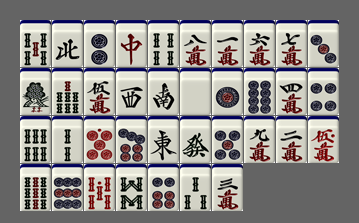0m: (308, 116, 339, 163)
0p: (84, 116, 115, 163)
0s: (84, 164, 115, 211)
1m: (212, 20, 243, 67)
1p: (212, 68, 243, 115)
1s: (20, 68, 51, 115)
1z: (148, 116, 179, 163)
2m: (276, 116, 307, 163)
2p: (84, 20, 115, 67)
2s: (52, 116, 83, 163)
2z: (148, 68, 179, 115)
3m: (212, 164, 243, 211)
3p: (308, 20, 339, 67)
3s: (180, 164, 211, 211)
3z: (116, 68, 147, 115)
4m: (276, 68, 307, 115)
4p: (308, 68, 339, 115)
4s: (148, 20, 179, 67)
4z: (52, 20, 83, 67)
5m: (84, 68, 115, 115)
5p: (212, 116, 243, 163)
5s: (20, 20, 51, 67)
5z: (180, 68, 211, 115)
6m: (244, 20, 275, 67)
6p: (148, 164, 179, 211)
6s: (20, 116, 51, 163)
6z: (180, 116, 211, 163)
7m: (276, 20, 307, 67)
7p: (116, 116, 147, 163)
7s: (52, 68, 83, 115)
7z: (116, 20, 147, 67)
8m: (180, 20, 211, 67)
8p: (244, 68, 275, 115)
8s: (116, 164, 147, 211)
9m: (244, 116, 275, 163)
9p: (52, 164, 83, 211)
9s: (20, 164, 51, 211)
